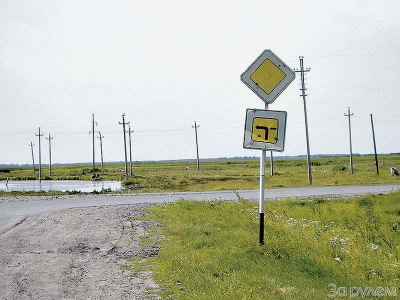priority_road: (244, 52, 291, 99)
